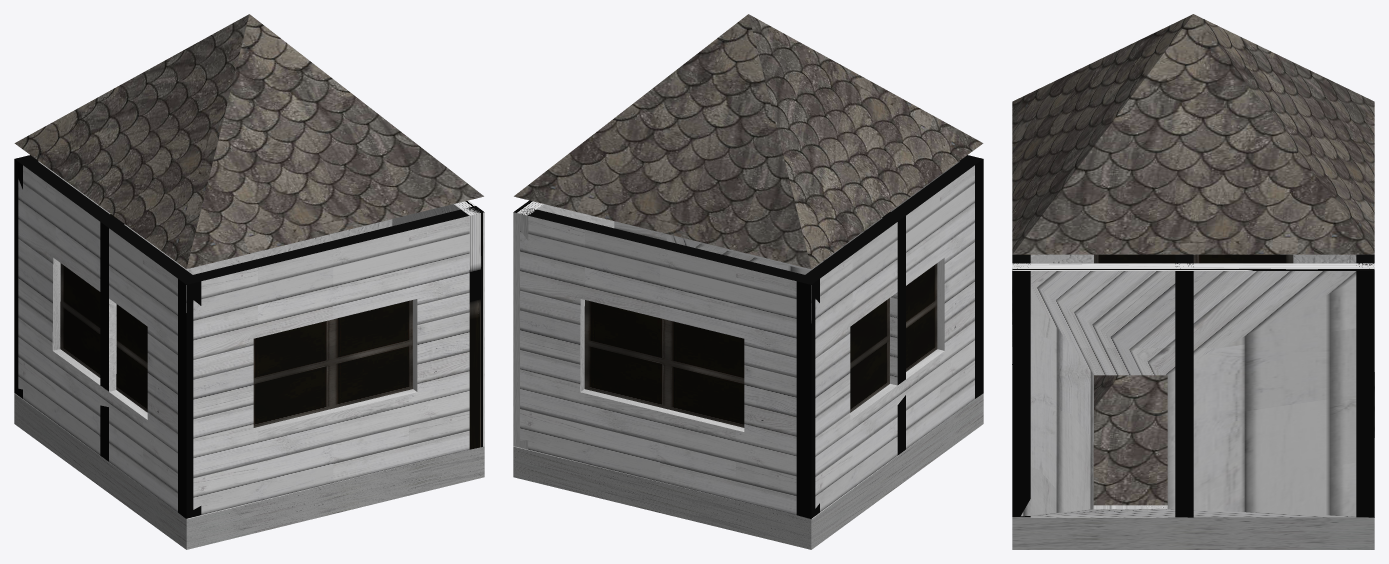
The model's file is OnlyWalls.gltf.
3 renders of one model, left to right at view 1: azimuth 30°, elevation 25°; view 2: azimuth 150°, elevation 25°; view 3: azimuth 270°, elevation 25°, orthographic. The views are drawn at different scales.
Visible parts, largest first — view 1: Wall (×4), Roof, Floor (×2), Door (×2); view 2: Wall (×4), Roof, Floor (×2), Door (×2); view 3: Roof (×2), Door, Wall (×4), Floor (×2).
Part boxes in pixels (<box>): Wall (×4): <box>14,155,484,519</box>; Roof: <box>14,14,483,269</box>; Floor (×2): <box>14,393,484,549</box>; Door (×2): <box>109,200,484,449</box>; Wall (×4): <box>513,155,983,519</box>; Roof: <box>514,14,983,269</box>; Floor (×2): <box>513,393,983,549</box>; Door (×2): <box>513,200,897,449</box>; Roof (×2): <box>1012,14,1374,505</box>; Door: <box>1012,263,1374,517</box>; Wall (×4): <box>1012,254,1374,517</box>; Floor (×2): <box>1012,517,1374,549</box>.
Bounding box in the file's own units: 2 × 2.8 × 2.
3 materials, 3 textured.
